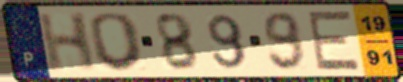8: (154, 11, 200, 73)
9: (262, 10, 309, 72), (205, 11, 250, 72)
E: (307, 9, 363, 73)
H: (35, 11, 98, 74)
O: (88, 10, 148, 73)
